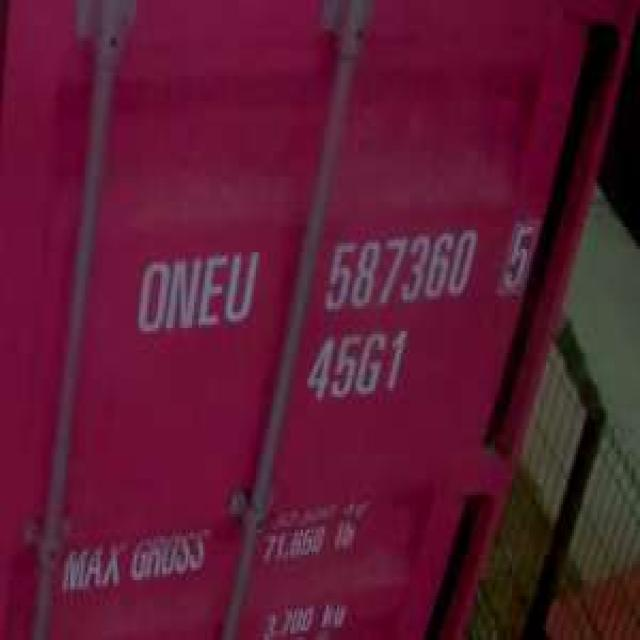dv: (499, 212, 538, 296)
owner: (130, 237, 263, 341)
serial: (318, 221, 478, 315)
size: (301, 324, 414, 404)
